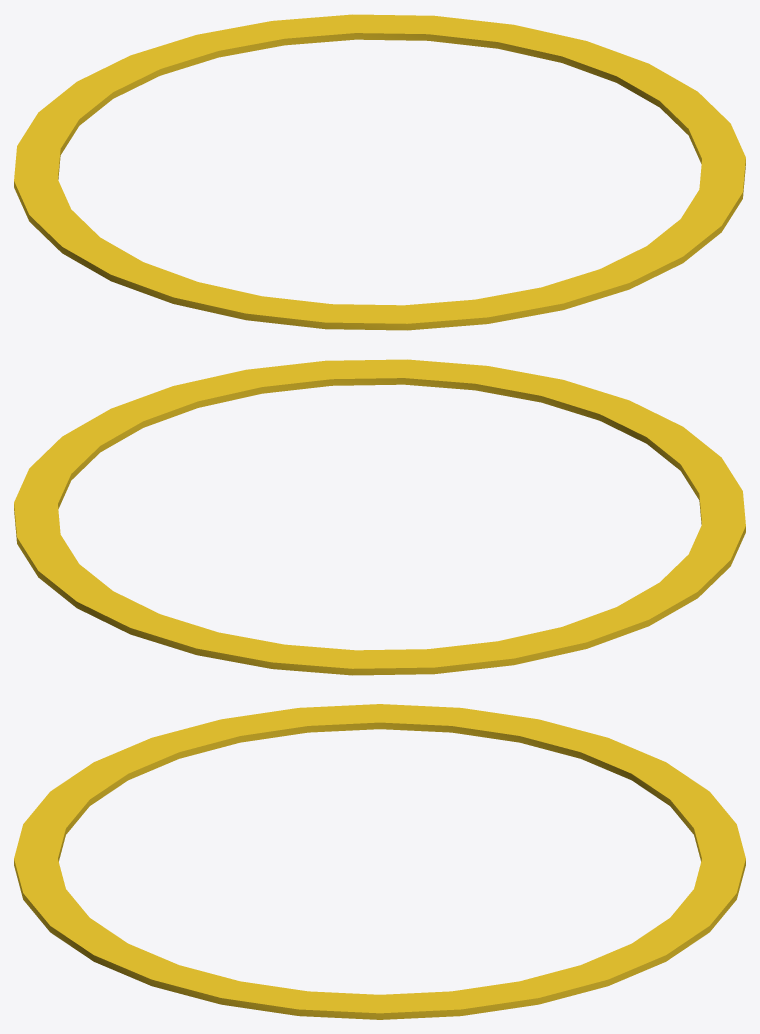
File: env_base_circle_decal.obj
3 renders of one model, top to bottom at view 1: azimuth 30°, elevation 25°; view 2: azimuth 150°, elevation 25°; view 3: azimuth 270°, elevation 25°, orthographic.
Parts seen in each view (by area): view 1: BaseCircleDecal; view 2: BaseCircleDecal; view 3: BaseCircleDecal.
Boxes of the visible parts, <box> form: BaseCircleDecal: <box>14,14,745,330</box>; BaseCircleDecal: <box>14,359,745,675</box>; BaseCircleDecal: <box>14,704,745,1019</box>.
Bounding box in the file's own units: 3 × 0.03 × 3.
